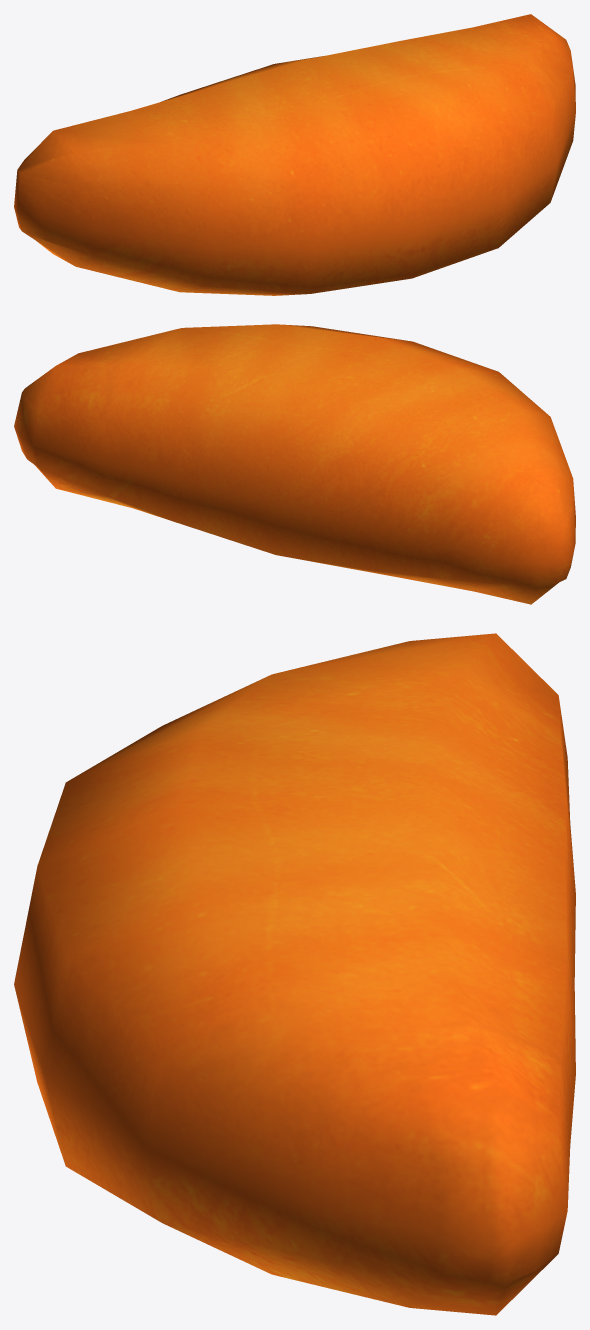
The model's file is CHP_MOD_Chewie_orange.fbx.
3 views of the same model, one above another, from view 1: azimuth 30°, elevation 25°; view 2: azimuth 150°, elevation 25°; view 3: azimuth 270°, elevation 25° (orthographic). The views are drawn at different scales.
Parts seen in each view (by area): view 1: CHP_MOD_Chewie_orange; view 2: CHP_MOD_Chewie_orange; view 3: CHP_MOD_Chewie_orange.
Part boxes in pixels (box(x1,y1,x2,y2)): CHP_MOD_Chewie_orange: box(14, 14, 575, 295); CHP_MOD_Chewie_orange: box(14, 324, 575, 604); CHP_MOD_Chewie_orange: box(14, 633, 575, 1315).
Size of the model in its own units: 0.851 by 0.2606 by 0.3896.
